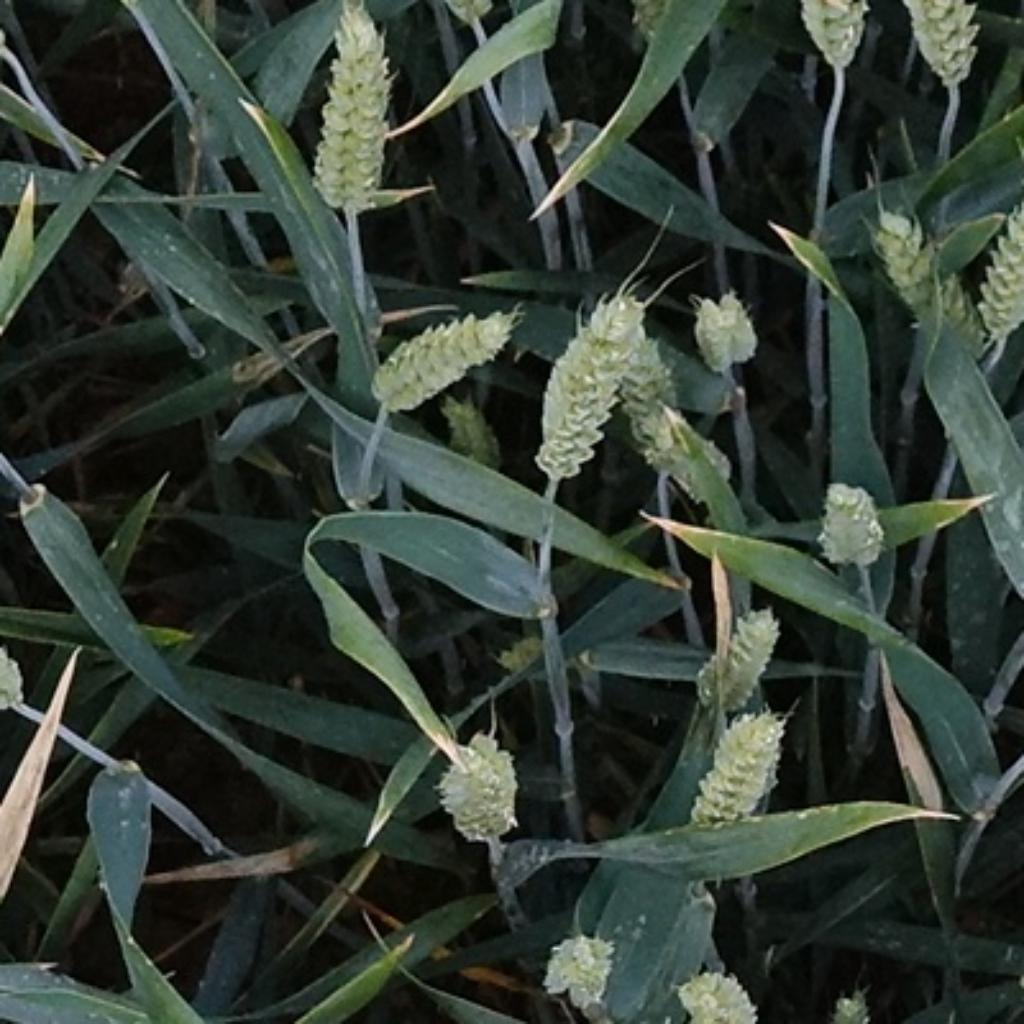0-0: (529, 279, 660, 481), (852, 195, 985, 363), (302, 3, 402, 217), (361, 294, 514, 418), (678, 696, 793, 824), (424, 719, 532, 851), (619, 389, 739, 494), (686, 591, 788, 709), (803, 465, 892, 579), (535, 916, 625, 1017), (683, 279, 767, 383), (896, 2, 985, 95), (969, 205, 1024, 350), (783, 2, 879, 78), (668, 952, 765, 1024), (435, 389, 504, 458), (816, 980, 875, 1024)
